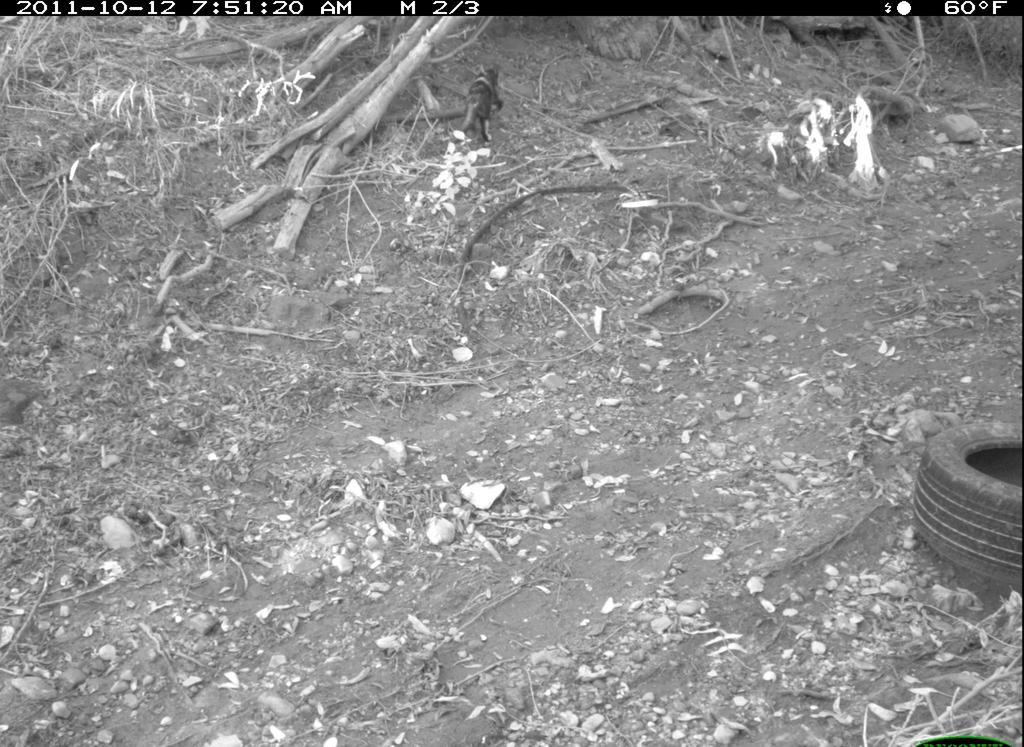cat: (455, 44, 519, 146)
